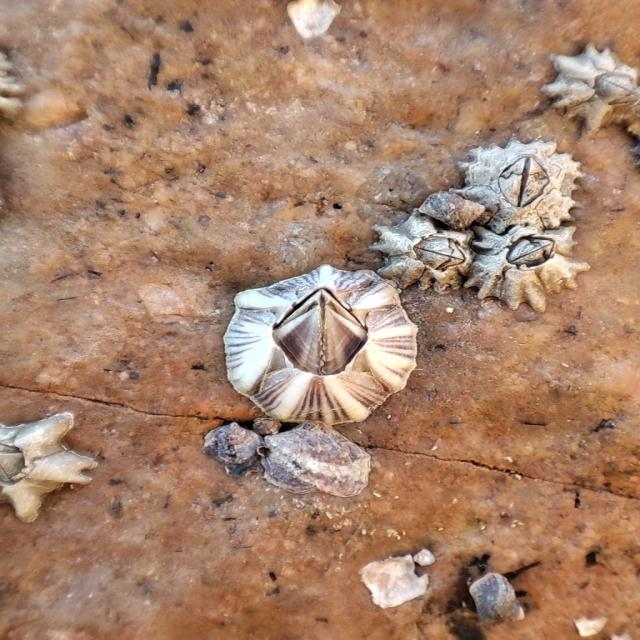barnacles: (220, 274, 420, 432), (0, 408, 108, 532), (464, 140, 577, 228), (532, 42, 640, 132), (483, 226, 582, 318), (382, 213, 489, 290)
